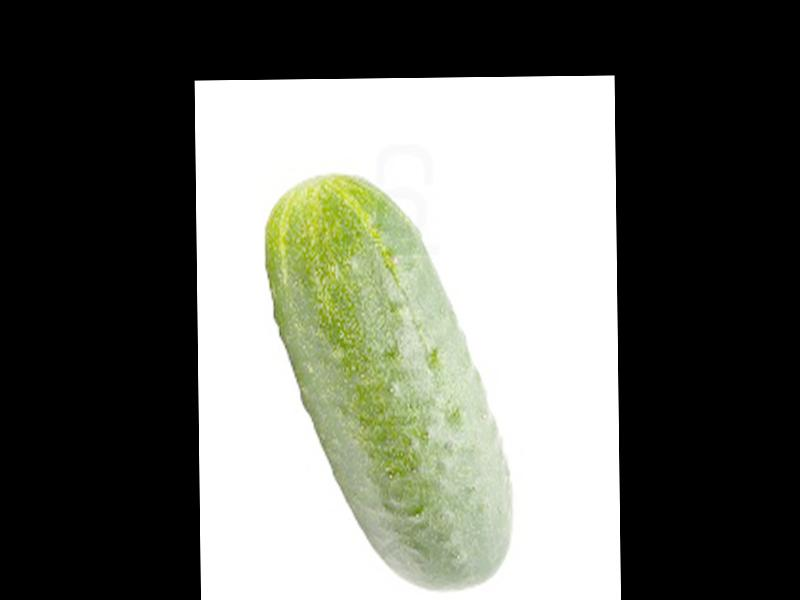Cucumber: (267, 170, 515, 593)
